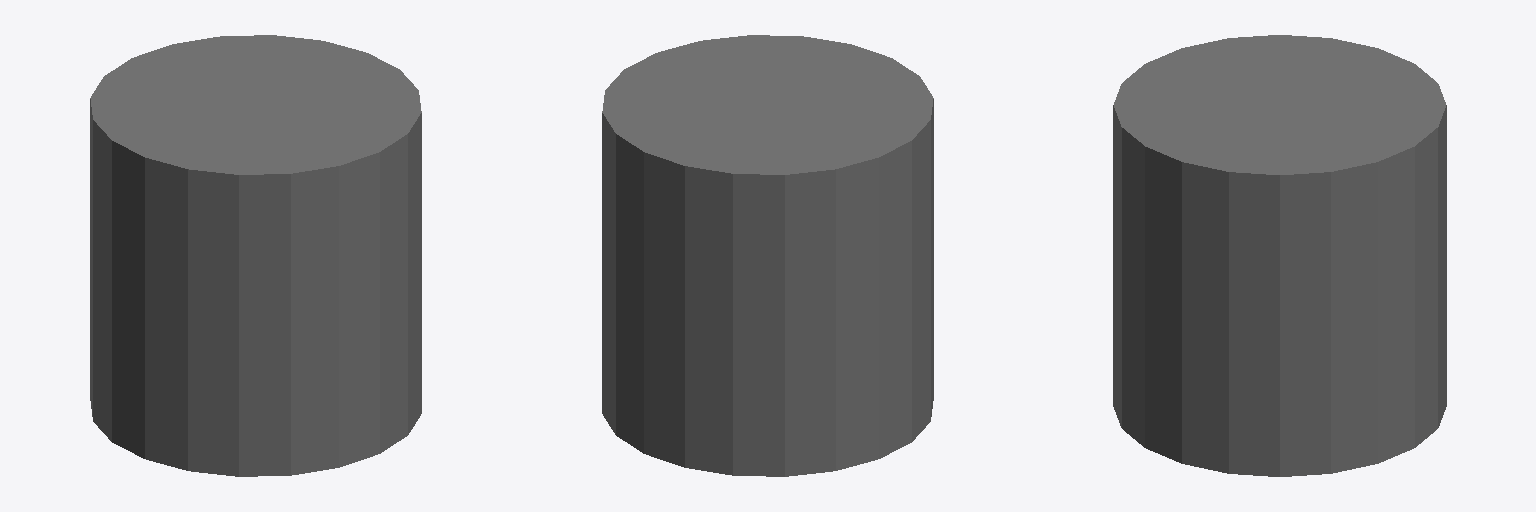
File: un_normal_cylynder2.obj
The picture shows the model from 3 angles: view 1: azimuth 30°, elevation 25°; view 2: azimuth 150°, elevation 25°; view 3: azimuth 270°, elevation 25°; orthographic projection.
Parts seen in each view (by area): view 1: un_normal_cylynder:pCylinder1; view 2: un_normal_cylynder:pCylinder1; view 3: un_normal_cylynder:pCylinder1.
Boxes of the visible parts, x1,y1,x2,y2 form: un_normal_cylynder:pCylinder1: [90, 35, 421, 476]; un_normal_cylynder:pCylinder1: [602, 35, 933, 476]; un_normal_cylynder:pCylinder1: [1113, 35, 1446, 476].
Size of the model in its own units: 2 by 2 by 2.